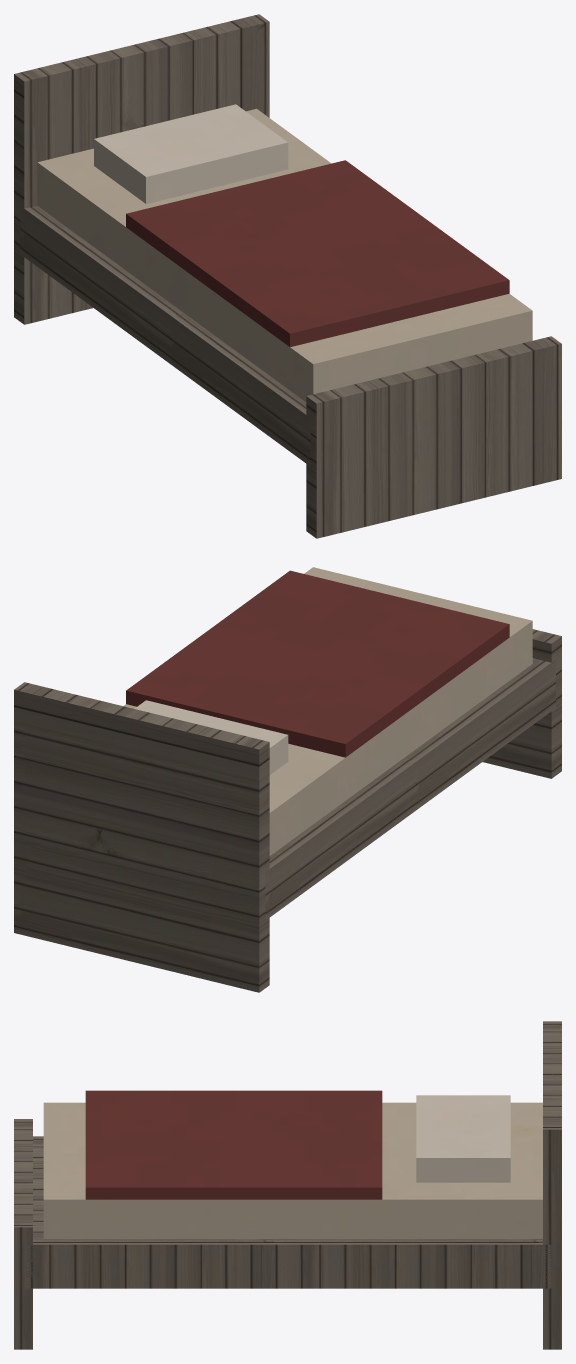
The model's file is bed_wood_01.glb.
3 views of the same model, one above another, from view 1: azimuth 30°, elevation 25°; view 2: azimuth 150°, elevation 25°; view 3: azimuth 270°, elevation 25° (orthographic). The views are drawn at different scales.
Visible parts, largest first — view 1: bed_wood_01; view 2: bed_wood_01; view 3: bed_wood_01.
Boxes of the visible parts, <box> form: bed_wood_01: <box>14,14,561,538</box>; bed_wood_01: <box>14,567,561,992</box>; bed_wood_01: <box>14,1021,561,1349</box>.
Size of the model in its own units: 0.95 by 0.9 by 2.03.
Materials: 4 (4 with a texture image).
